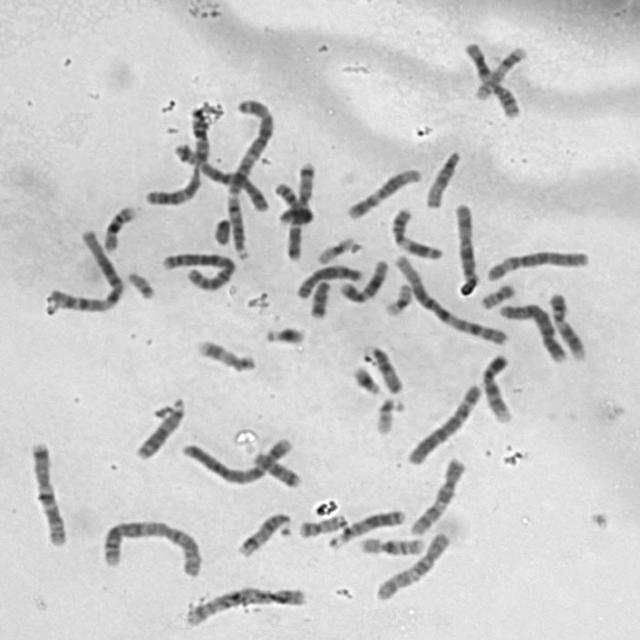A1: (388, 249, 512, 347), (40, 223, 126, 315)
A2: (95, 513, 205, 579), (155, 245, 238, 292)
A3: (139, 106, 213, 208), (223, 92, 277, 200)
B4: (176, 431, 296, 487), (493, 296, 570, 365)
B5: (168, 136, 271, 214), (179, 580, 309, 629)
C10: (369, 526, 454, 604), (405, 451, 470, 538)
C11: (458, 36, 523, 120), (385, 201, 446, 261)
C12: (342, 160, 424, 220), (334, 253, 390, 304)
C6: (402, 377, 486, 466), (480, 243, 592, 283)
C7: (23, 435, 69, 548), (283, 162, 315, 262)
C8: (291, 258, 367, 300), (272, 179, 315, 225)
C9: (544, 286, 587, 362), (475, 347, 515, 425)
D13: (128, 392, 188, 462), (323, 502, 407, 550)
D14: (232, 507, 296, 559), (222, 188, 252, 260)
D15: (421, 144, 465, 210), (359, 339, 406, 395)
E16: (97, 199, 139, 252), (354, 530, 428, 557)
E17: (470, 42, 530, 101), (190, 334, 258, 374)
E18: (247, 446, 303, 490), (304, 275, 332, 321)
F19: (311, 231, 361, 265), (379, 278, 413, 318)
F20: (294, 508, 350, 539), (474, 277, 519, 309)
G21: (259, 319, 309, 347), (346, 360, 384, 396)
G22: (370, 390, 404, 436), (121, 265, 158, 301)
X: (449, 196, 480, 294)
Y: (208, 214, 233, 246)
